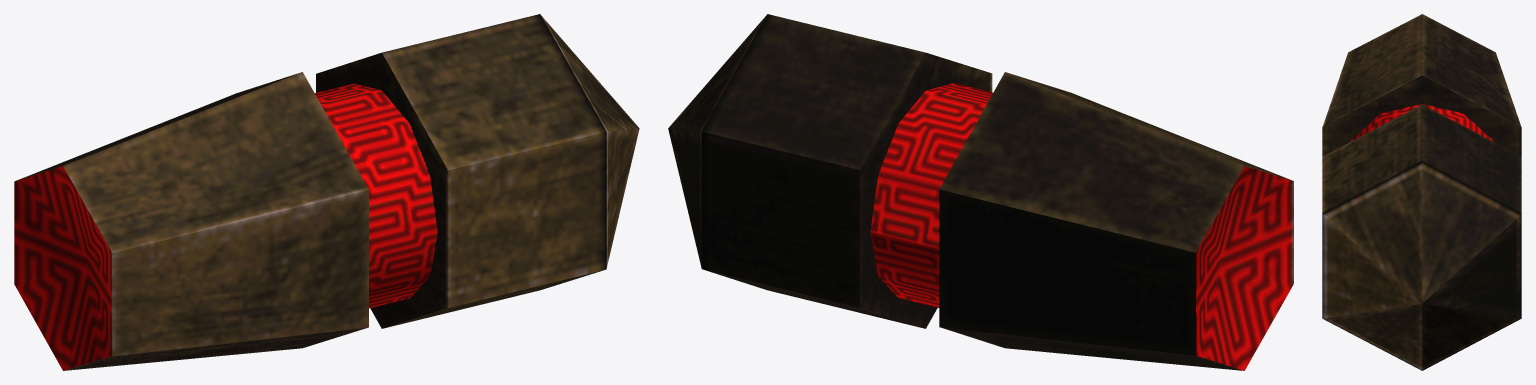
File: grenade_v2.gltf
The picture shows the model from 3 angles, left to right: view 1: azimuth 30°, elevation 25°; view 2: azimuth 150°, elevation 25°; view 3: azimuth 270°, elevation 25°; orthographic projection. The views are drawn at different scales.
Visible parts, largest first — view 1: mesh0_noesis_meshnode_0000; view 2: mesh0_noesis_meshnode_0000; view 3: mesh0_noesis_meshnode_0000.
Boxes of the visible parts, box(x1,y1,x2,y2) form: mesh0_noesis_meshnode_0000: box(14, 14, 639, 370); mesh0_noesis_meshnode_0000: box(668, 14, 1293, 370); mesh0_noesis_meshnode_0000: box(1322, 14, 1521, 370).
Size of the model in its own units: 19.17 by 8.78 by 7.61.
Materials: 1 (1 with a texture image).
